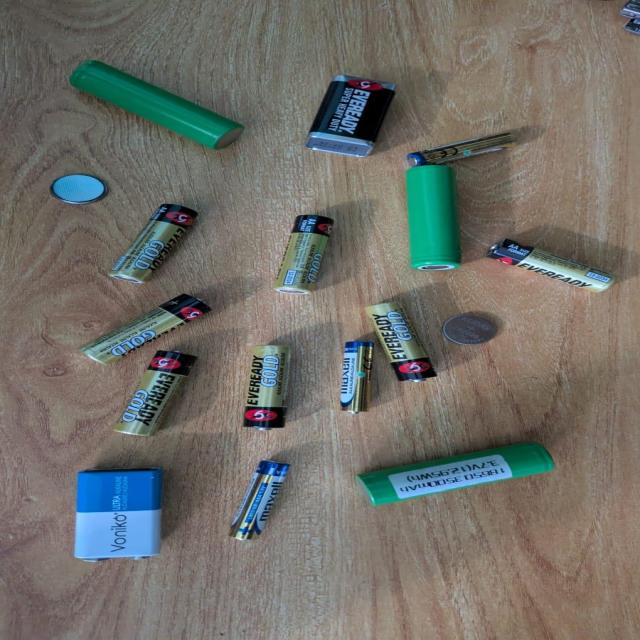9V: (73, 467, 162, 562), (306, 75, 402, 157)
AA: (78, 296, 209, 364), (104, 203, 201, 284), (111, 350, 198, 438), (486, 238, 616, 290), (363, 303, 439, 380), (273, 216, 335, 296), (243, 346, 293, 430)
AAA: (226, 460, 292, 541), (403, 132, 518, 168), (338, 342, 374, 414)
COIN: (46, 173, 110, 206), (441, 313, 500, 345)
